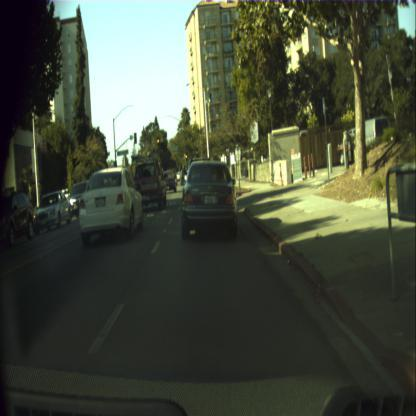Yellow: (184, 152, 188, 160), (156, 136, 158, 145), (196, 147, 198, 156)
